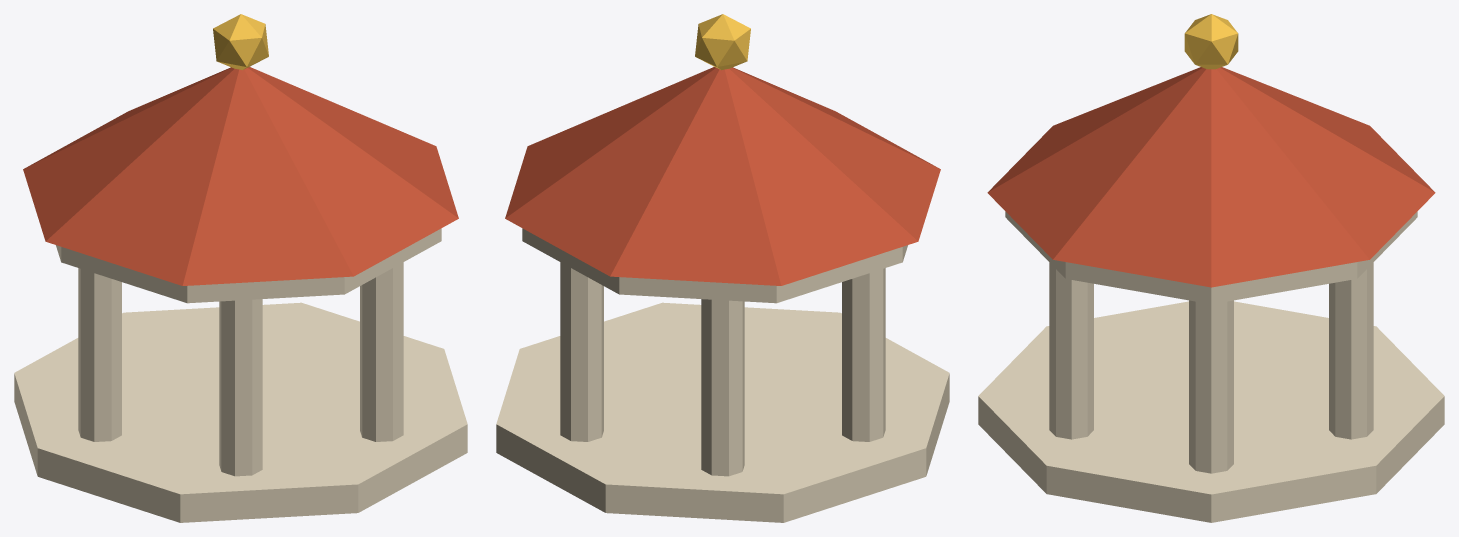
The model's file is den.glb.
3 renders of one model, left to right at view 1: azimuth 30°, elevation 25°; view 2: azimuth 150°, elevation 25°; view 3: azimuth 270°, elevation 25°, orthographic.
Visible parts, largest first — view 1: den; view 2: den; view 3: den.
Boxes of the visible parts, x1=… form: den: x1=14, y1=14, x2=467, y2=522; den: x1=496, y1=14, x2=949, y2=522; den: x1=978, y1=14, x2=1444, y2=522.
Size of the model in its own units: 5.2 by 5.05 by 5.2.
